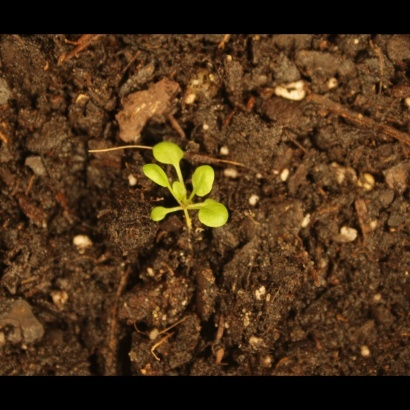leaf: (195, 195, 232, 232), (151, 133, 187, 167), (187, 163, 220, 197), (141, 159, 174, 190), (141, 200, 171, 225), (165, 175, 190, 205)
